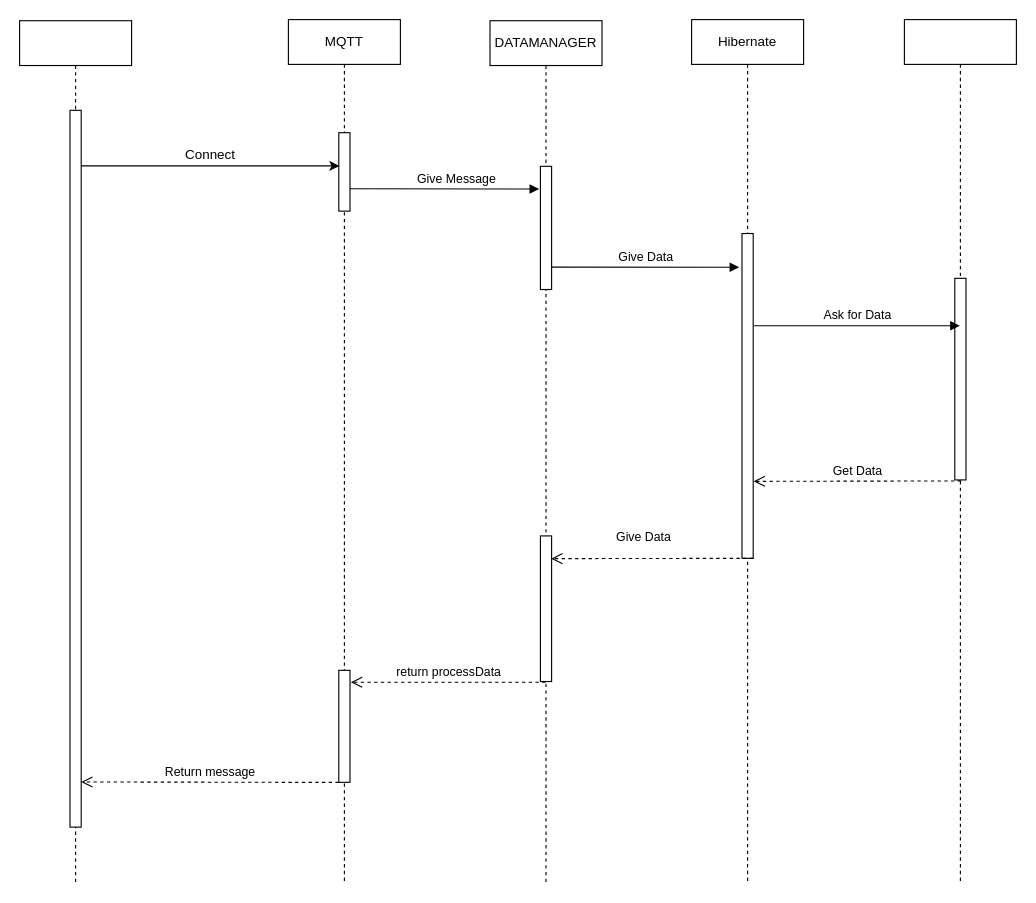
This 1036x903 diagram has some shape labels left out. The shapes that lost their labels are listed below. From the top down, each one's box as (x1, y1, x2, y2) in pixels, then its label:
(18, 20, 132, 883): User
(903, 18, 1016, 882): DataBase
